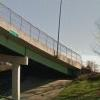Bridge: (10, 5, 83, 81)
